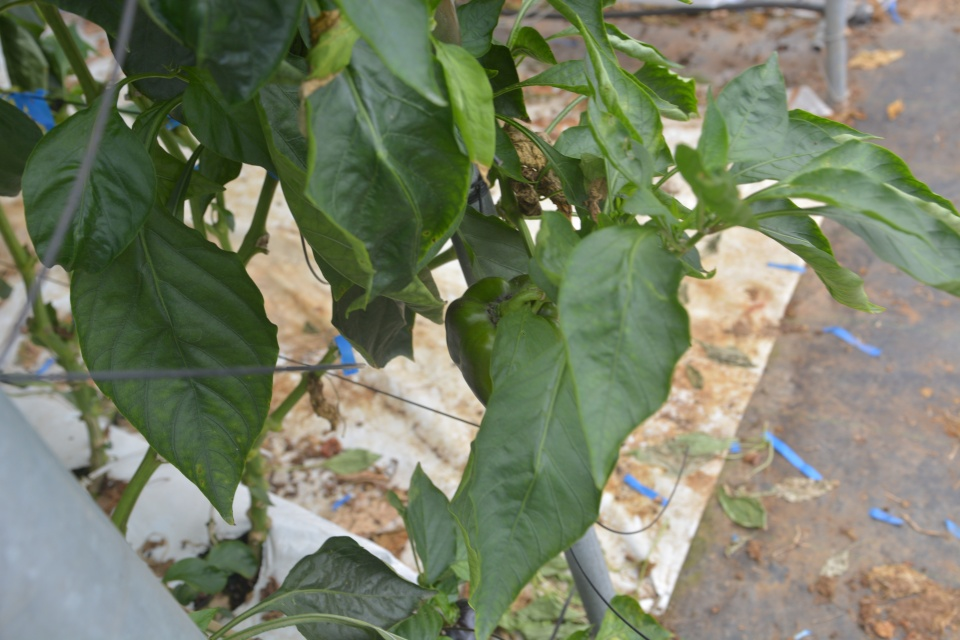fruit: (444, 272, 560, 411)
pedicle: (486, 291, 531, 325)
